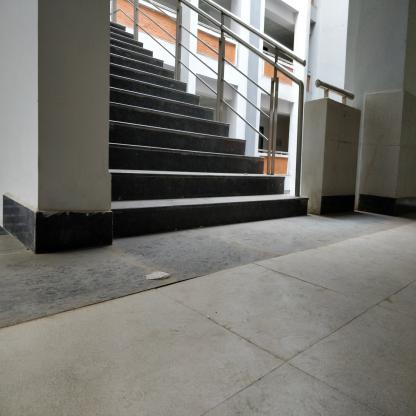stairs: (113, 54, 169, 248)
